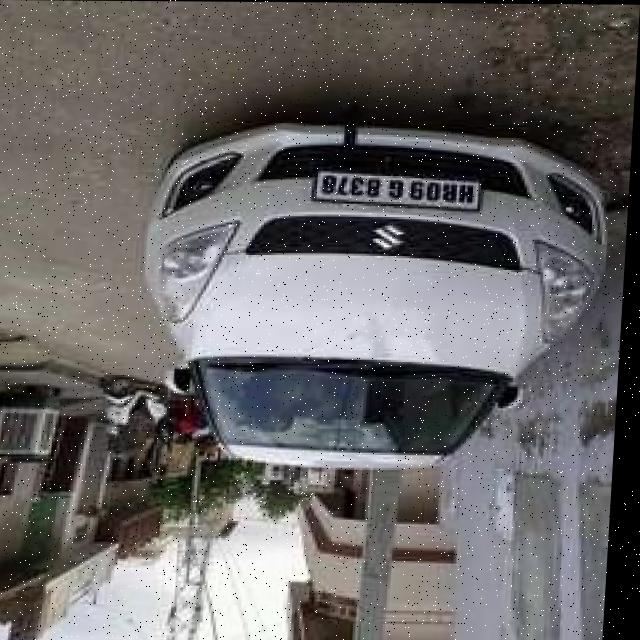plate: (313, 168, 485, 214)
